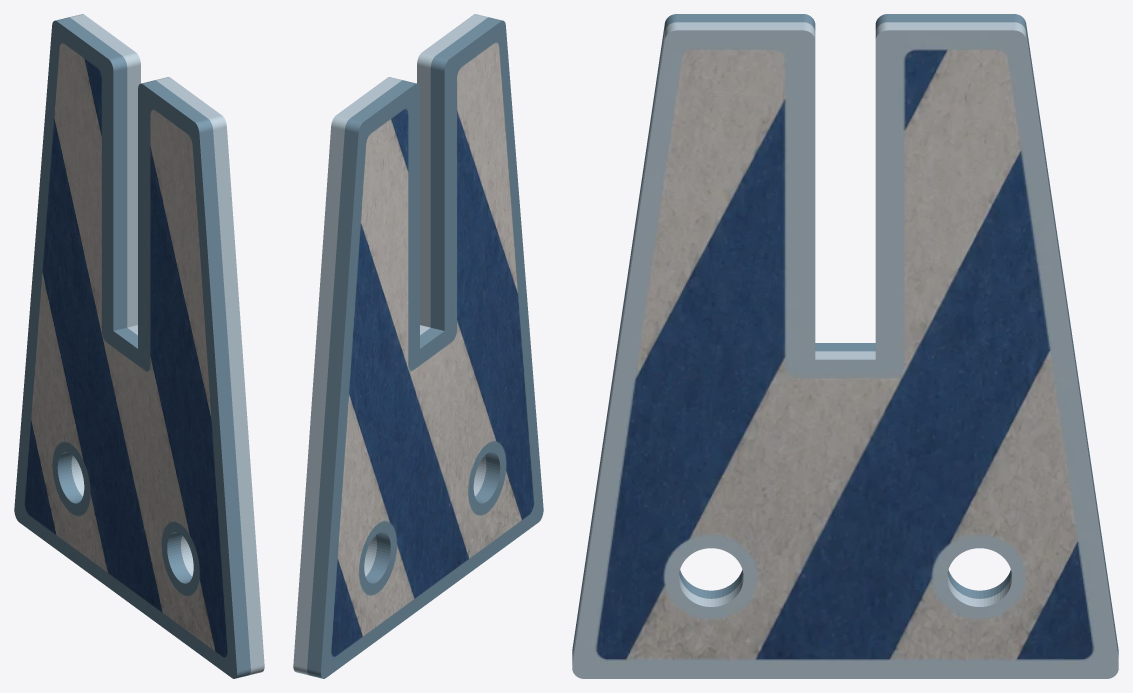
Rendered from bottom-stabilizer-01.glb.
The picture shows the model from 3 angles, left to right: view 1: azimuth 30°, elevation 25°; view 2: azimuth 150°, elevation 25°; view 3: azimuth 270°, elevation 25°; orthographic projection. The views are drawn at different scales.
Visible parts, largest first — view 1: bottom-stabilizer-01; view 2: bottom-stabilizer-01; view 3: bottom-stabilizer-01.
Part boxes in pixels (x1,y1,x2,y2): bottom-stabilizer-01: (14, 14, 264, 678); bottom-stabilizer-01: (293, 14, 543, 678); bottom-stabilizer-01: (572, 14, 1118, 678).
Bounding box in the file's own units: 18 × 330 × 252.
Materials: 4 (2 with a texture image).
